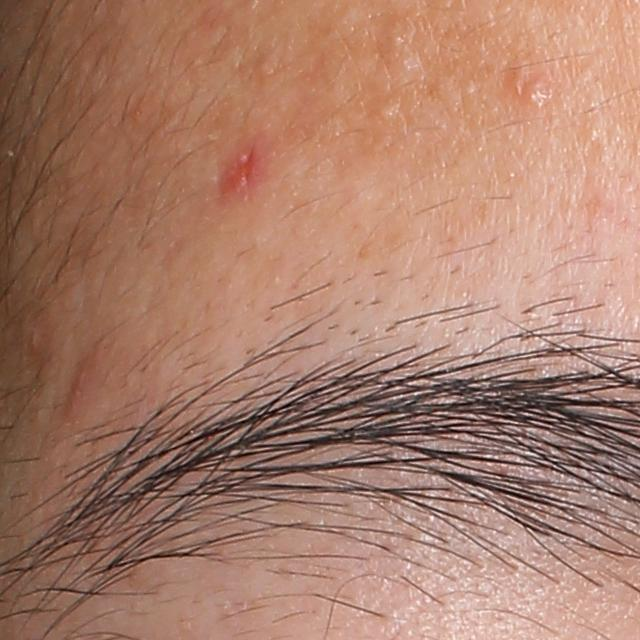comedo: (379, 16, 417, 57), (259, 55, 280, 80)
papule: (66, 359, 94, 417), (516, 71, 554, 113)
